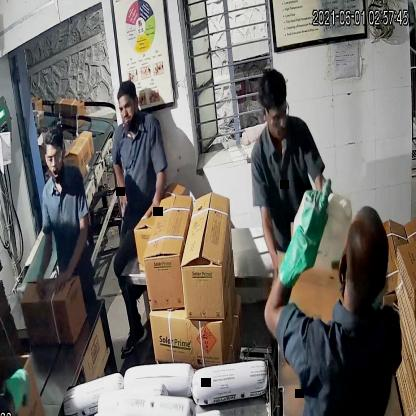goggles: (42, 144, 68, 169)
